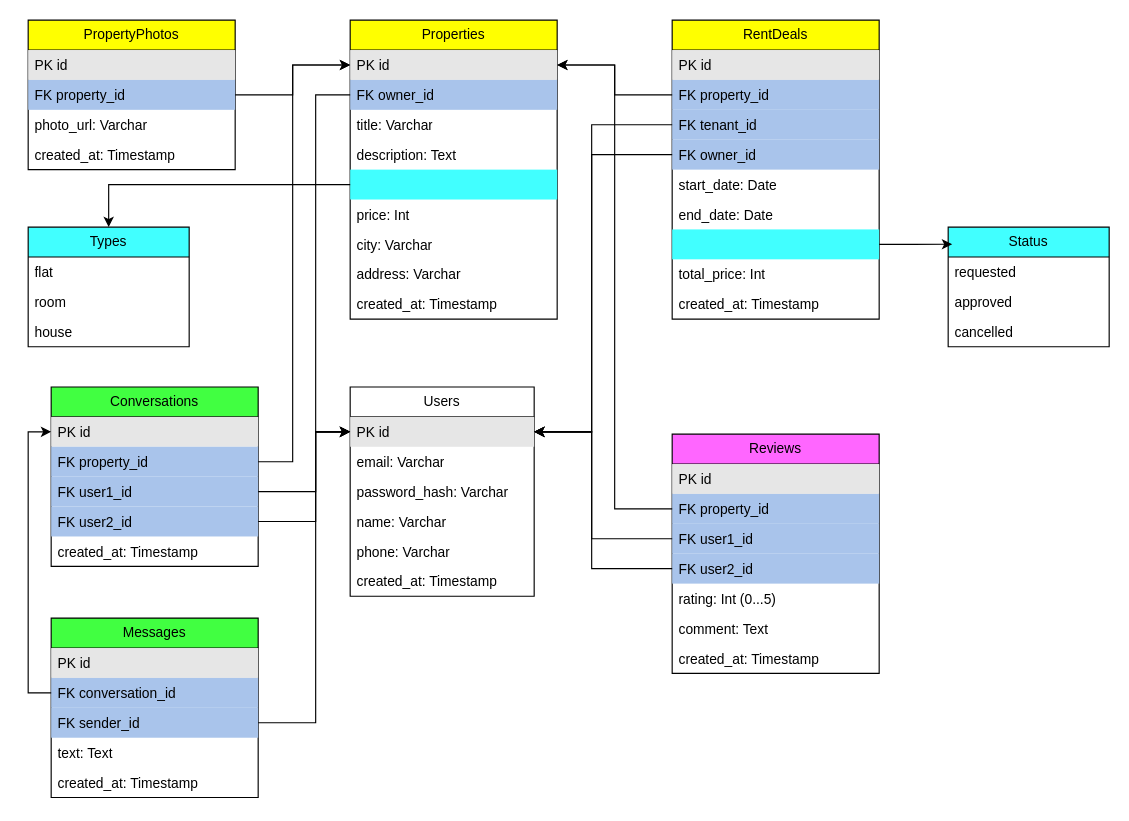
The diagram is 1129 pixels wide and 821 high, and some of its shapes have lost their labels. Here are the shapes that lost their labels. From the top down, the centre of each, then its label:
point (453, 184): type: Enum
point (775, 244): status: Enum
